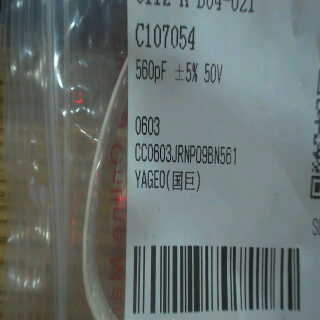560pF: (130, 52, 170, 88)
